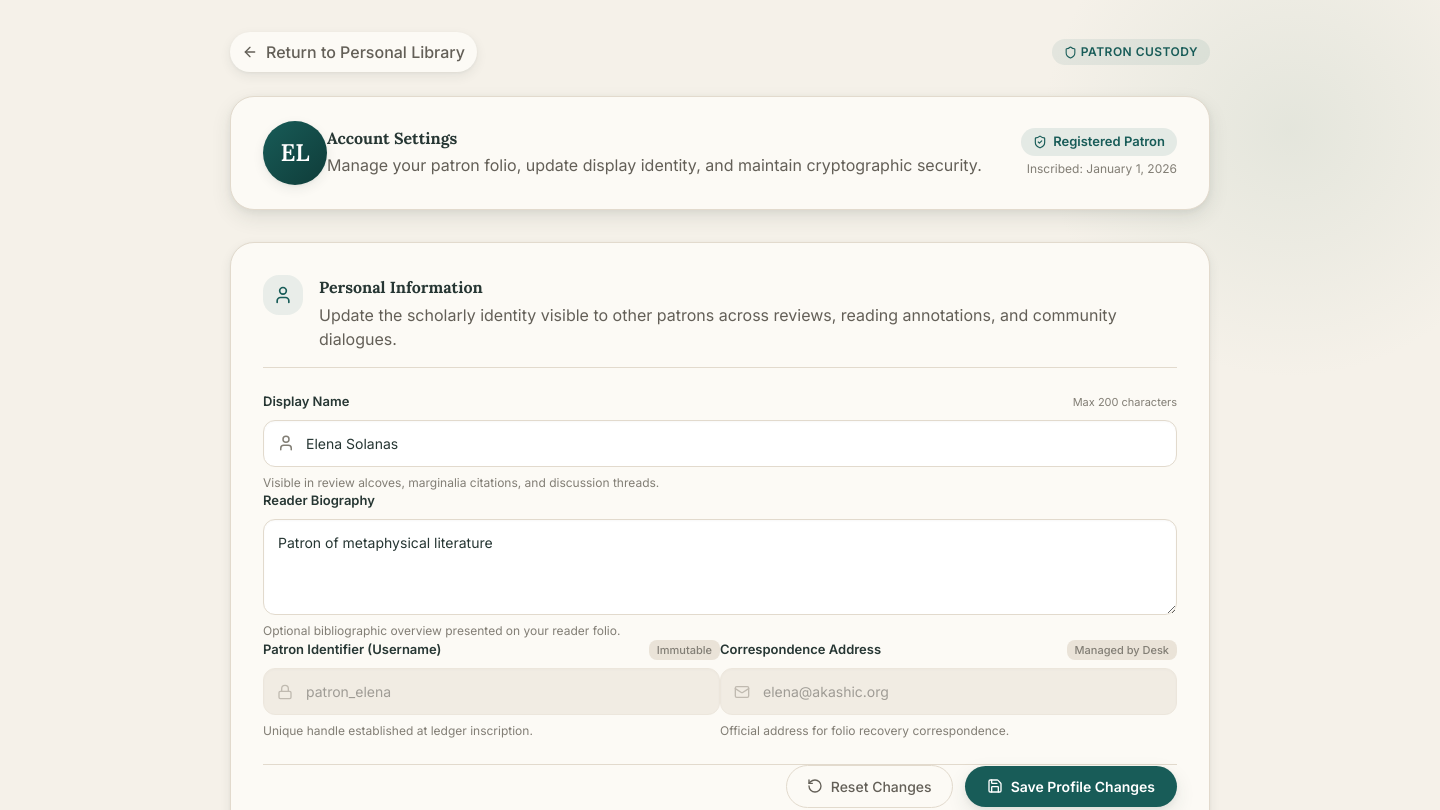
it: AccountSettingsPage — Patron Settings & Permissions › 2. updates display name and bio successfully via updateProfile
Replace the text in the field labelled "Display Name Max 200 characters" with "Elena V. Solanas" at (720, 443), box [263, 420, 1177, 466]
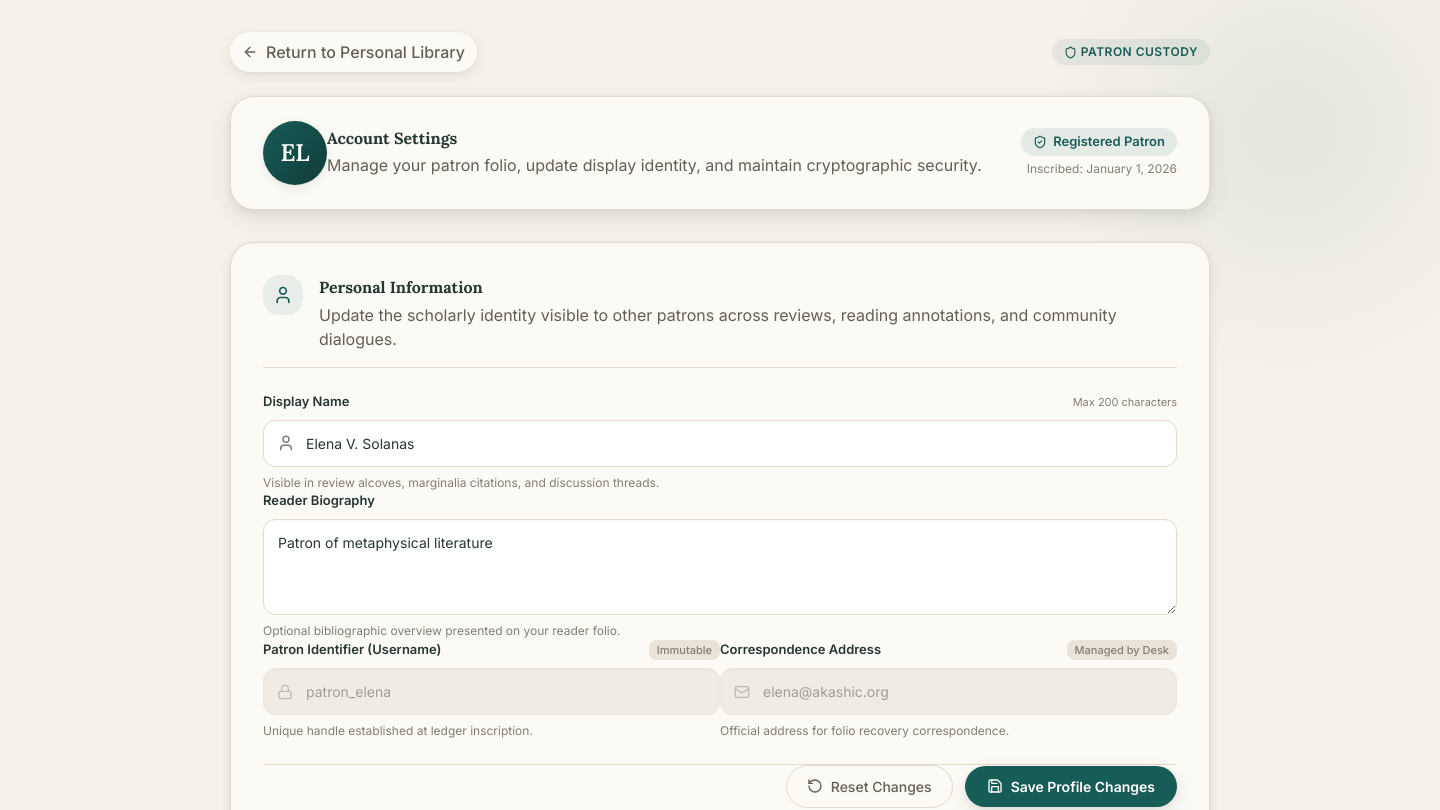
Replace the text in the text box labelled "Reader Biography" with "Curator of labyrinthine folios." at (720, 567), box [263, 519, 1177, 615]
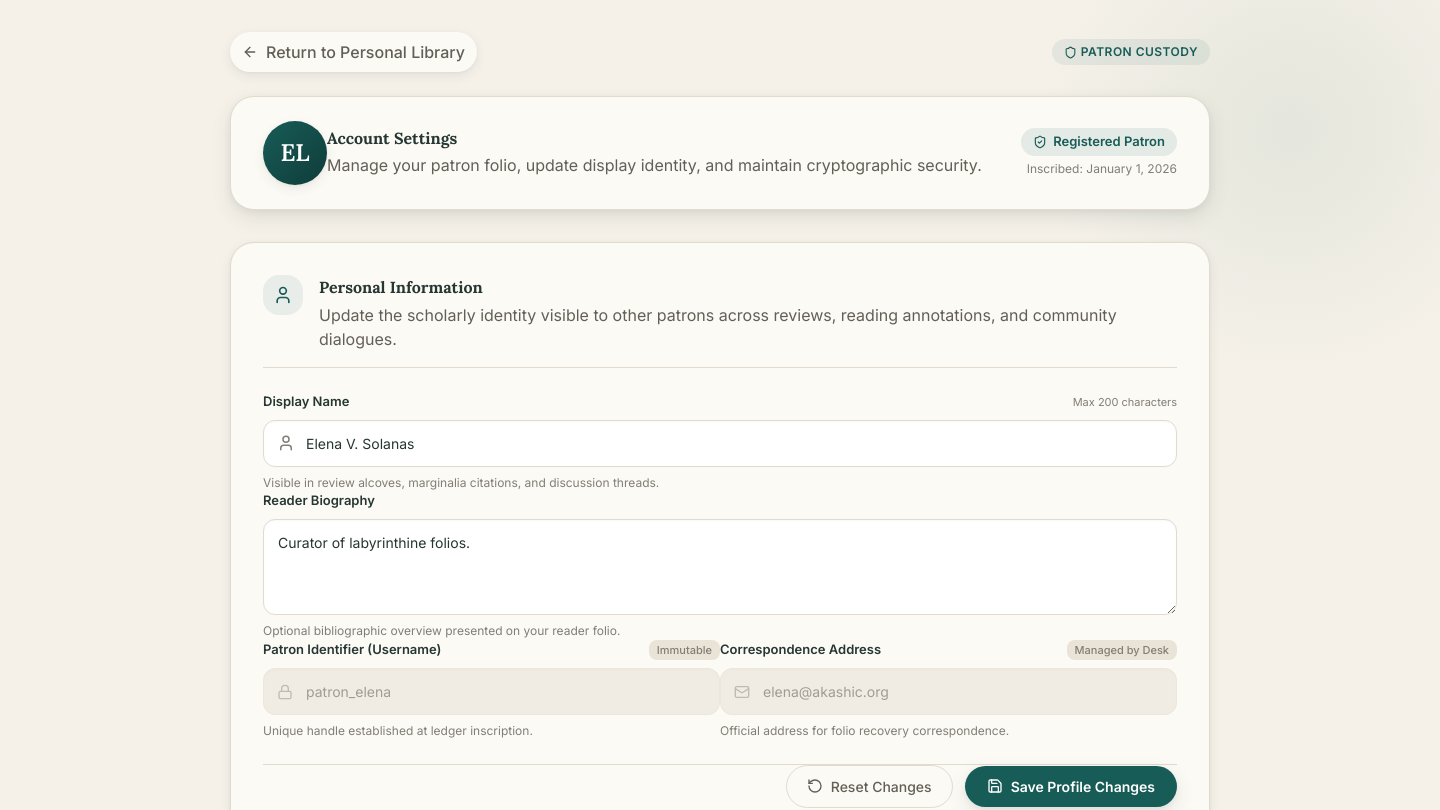
Submit the form named "Save Profile Changes", box [263, 392, 1177, 808]
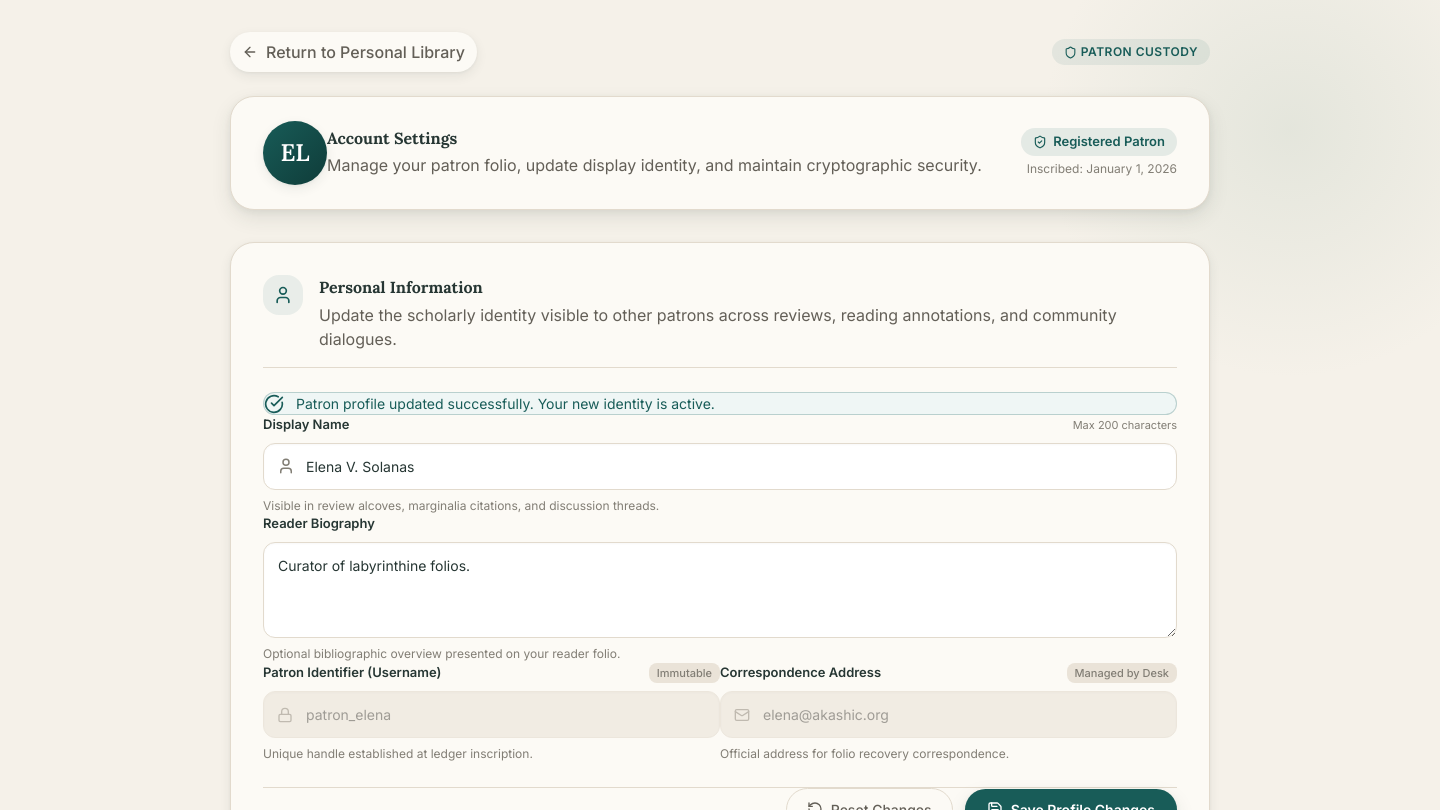
Now the text "Patron profile updated successfully" is shown, box [296, 395, 715, 412]
